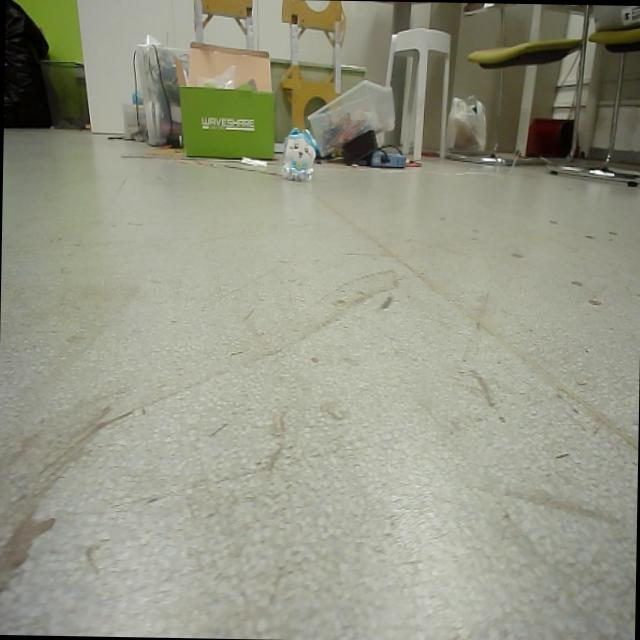xiaoba: (282, 122, 319, 187)
